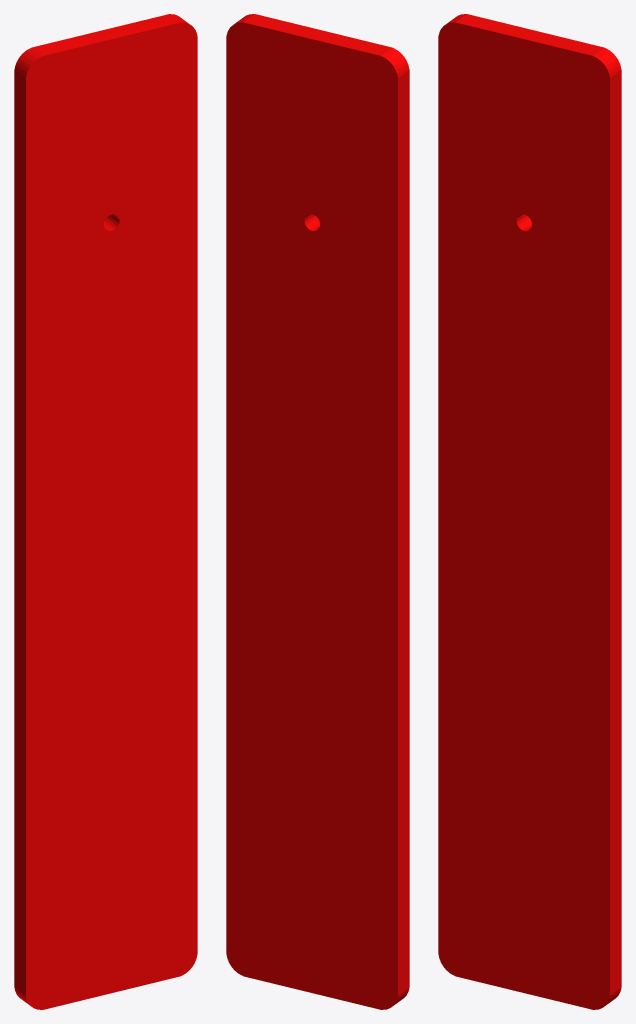
Rendered from torso_1_battery_mount_1.glb.
3 renders of one model, left to right at view 1: azimuth 30°, elevation 25°; view 2: azimuth 150°, elevation 25°; view 3: azimuth 330°, elevation 25°, orthographic.
Parts seen in each view (by area): view 1: torso_1_battery_mount_1.obj; view 2: torso_1_battery_mount_1.obj; view 3: torso_1_battery_mount_1.obj.
Boxes of the visible parts, <box> form: torso_1_battery_mount_1.obj: <box>14,14,197,1009</box>; torso_1_battery_mount_1.obj: <box>226,14,409,1009</box>; torso_1_battery_mount_1.obj: <box>438,14,621,1009</box>.
Bounding box in the file's own units: 0.0548 × 0.291 × 0.00635.
